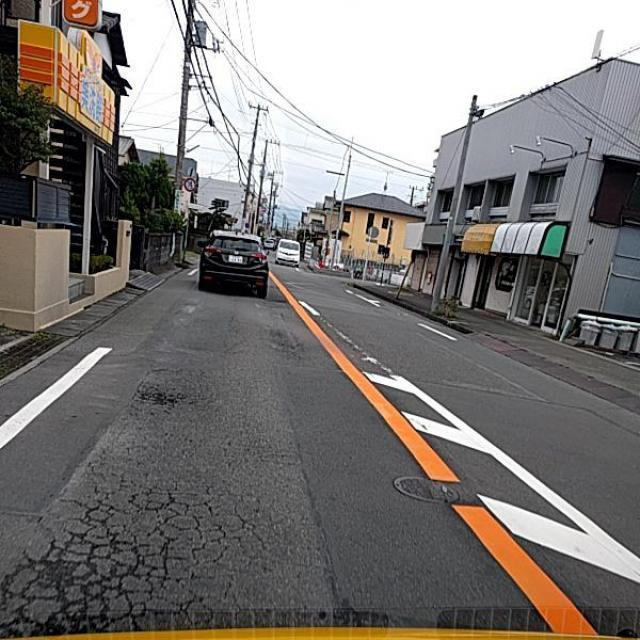Retak Buaya: (0, 481, 289, 640)
